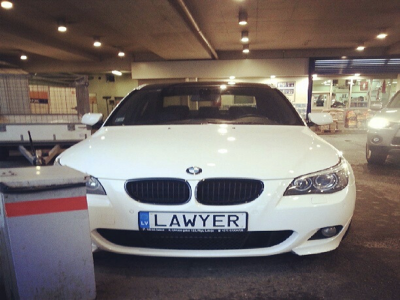licence: (139, 212, 249, 232)
